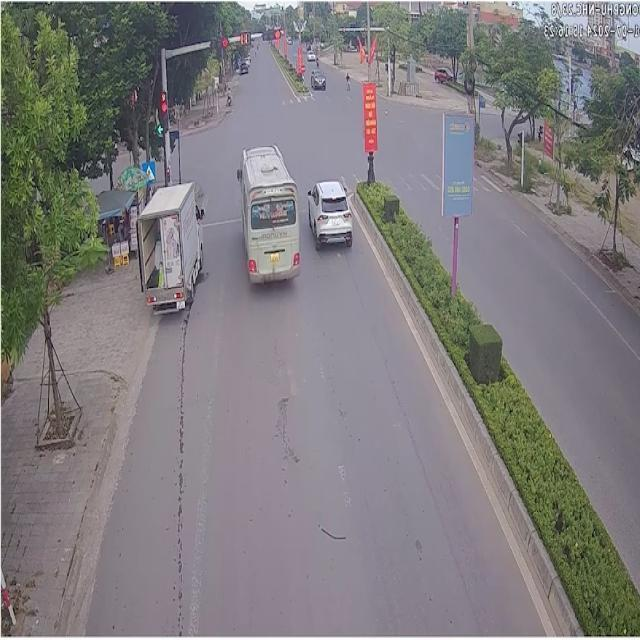car: (136, 180, 202, 311), (236, 143, 298, 280), (307, 180, 350, 246), (309, 66, 324, 88)
red_light: (208, 34, 227, 49), (159, 90, 166, 129), (262, 28, 279, 38), (238, 32, 251, 43)
stop_line: (202, 216, 239, 225)
